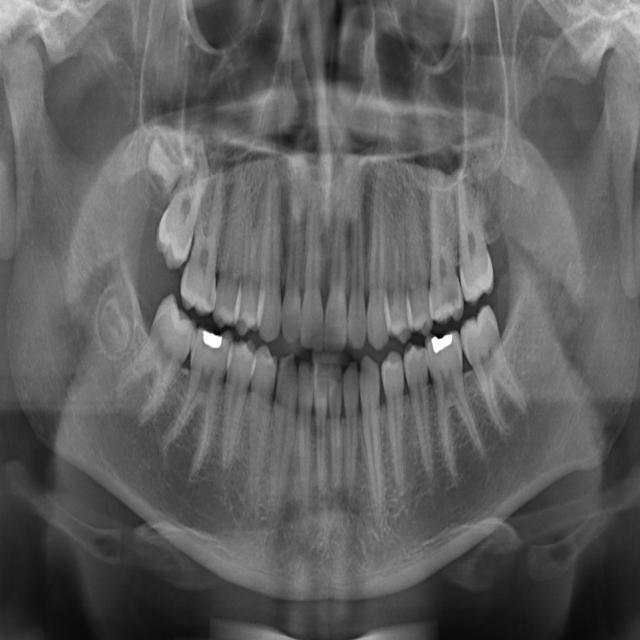3M ESPE Implant: (140, 121, 187, 197)
AGS Medikal Implant: (348, 181, 366, 350)
AMerOss Implant: (366, 143, 390, 352)
Amalgam filling: (384, 188, 412, 345)
Anthogyr Implant: (398, 181, 434, 338)
Bicon Implant: (416, 148, 468, 328)
BioHorizons Implant: (446, 156, 499, 310)
Blue Sky Bio Implant: (450, 300, 538, 442)
Camlog Implant: (416, 326, 493, 487)
Caries: (145, 124, 226, 274)
Composite filling: (400, 339, 445, 492)
Cowellmedi Implant: (378, 346, 419, 502)
Crown: (358, 352, 386, 534)
DENTSPLY Implant: (343, 359, 359, 499)
Dentatus Implant: (328, 363, 343, 488)
Dentis Implant: (314, 362, 328, 498)
Dentium Implant: (298, 359, 313, 513)
Euroteknika Implant: (265, 349, 302, 529)
Filling: (237, 343, 280, 507)
Frontier Implant: (207, 333, 258, 479)
Hiossen Implant: (174, 158, 239, 320)
Implant: (99, 287, 213, 431)
Implant Direct: (148, 318, 244, 486)
Keystone Dental Implant: (89, 288, 139, 361)
MIS Implant: (210, 158, 256, 331)
Mandible: (234, 151, 272, 338)
Maxilla: (257, 157, 290, 344)
Megagen Implant: (281, 176, 304, 347)
Neodent Implant: (298, 176, 323, 353)
Neoss Implant: (324, 168, 347, 352)
